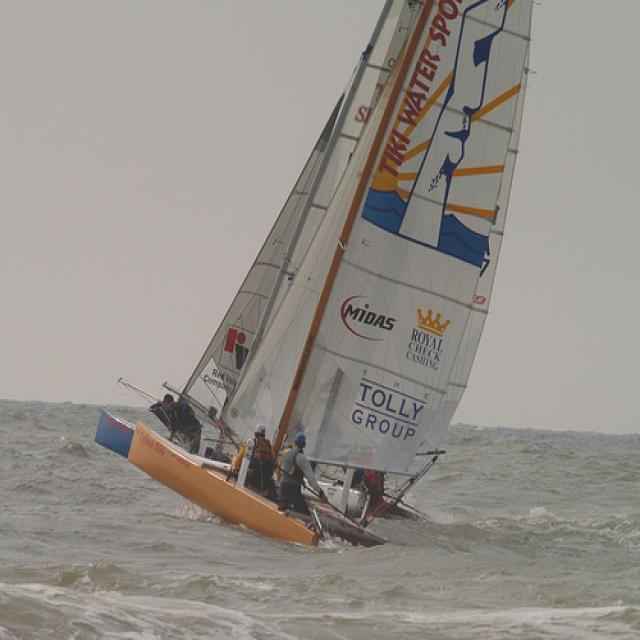Ship: (92, 1, 533, 558)
